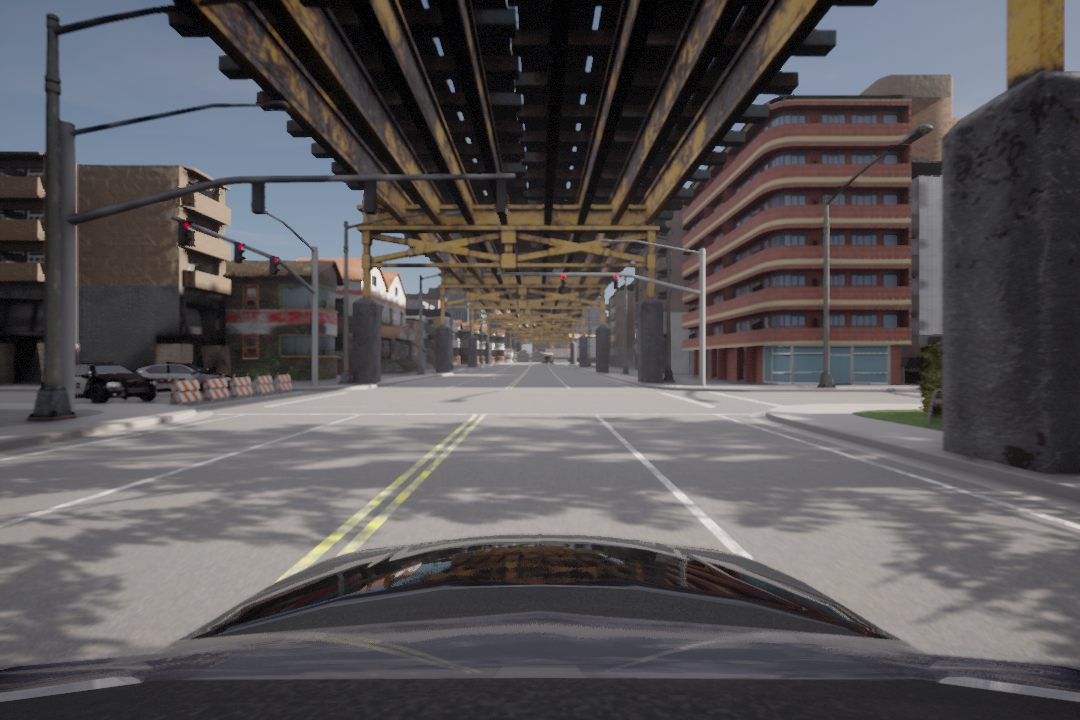TrafficLight: (175, 218, 190, 251), (232, 242, 246, 265), (267, 254, 281, 277), (557, 269, 568, 290), (611, 273, 620, 291)
